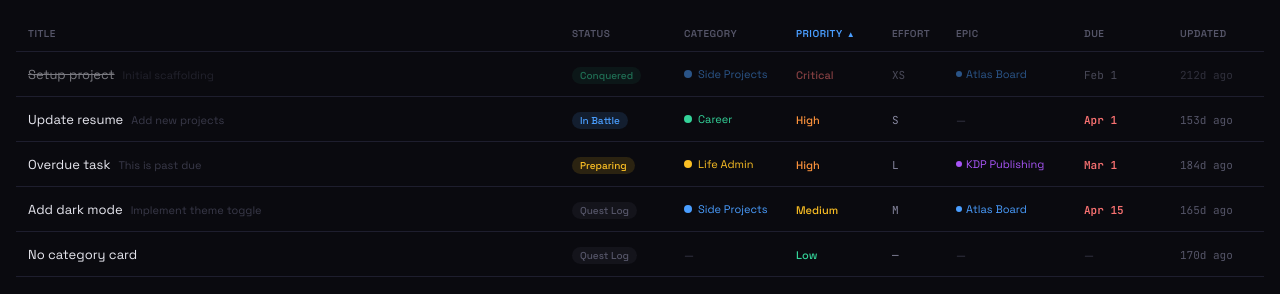
Test: ListView › toggles sort direction when same header clicked twice
Note: Priority is the default sort — click the th to toggle to desc
Click the column heading "Priority".
click(832, 34)  # box [784,16,880,52]
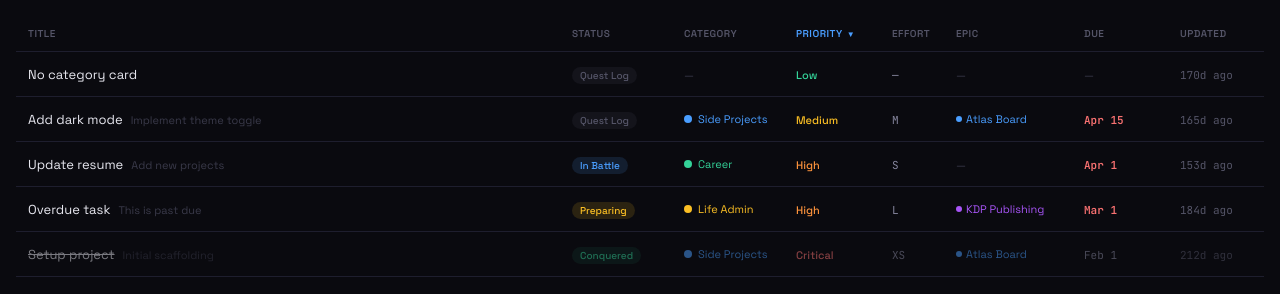
Result: the column heading "Priority" shows "▼" at [847,29,855,39]
